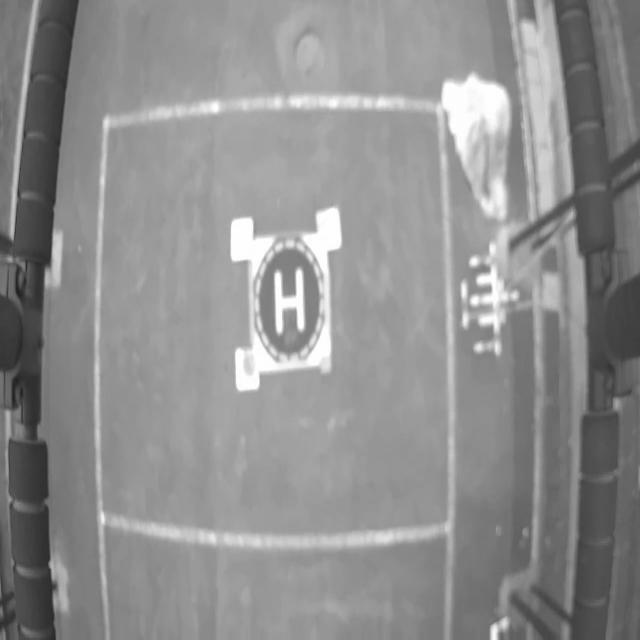Helipad: (273, 267, 306, 335)
